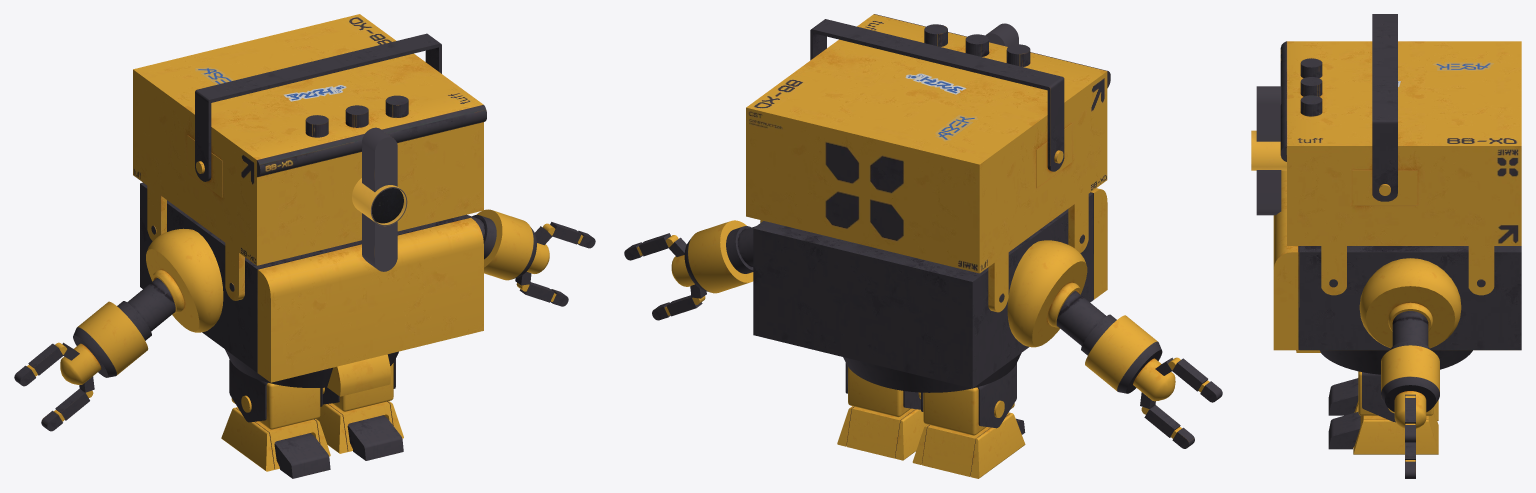
3 views of the same model, side by side, from view 1: azimuth 30°, elevation 25°; view 2: azimuth 150°, elevation 25°; view 3: azimuth 270°, elevation 25° (orthographic). The views are drawn at different scales.
Parts seen in each view (by area): view 1: Cube.001_Cube.001, Cube.001_Cube.002, Circle.002, Circle_Circle.002, Circle_Circle.001, Cube_Cube.002; view 2: Cube.001_Cube.001, Cube.001_Cube.002, Circle.002, Circle_Circle.002, Cube_Cube.002; view 3: Cube.001_Cube.001, Circle_Circle.002, Cube.001_Cube.002, Circle.002, Circle_Circle.001, Cube_Cube.002, sticker2.
Part boxes in pixels (box(x1,y1,x2,y2)): Cube.001_Cube.001: box(133, 14, 486, 382); Cube.001_Cube.002: box(221, 359, 403, 478); Circle.002: box(14, 209, 595, 431); Circle_Circle.002: box(117, 215, 496, 340); Circle_Circle.001: box(352, 127, 407, 271); Cube_Cube.002: box(225, 349, 398, 396); Cube.001_Cube.001: box(746, 14, 1110, 388); Cube.001_Cube.002: box(837, 363, 1025, 478); Circle.002: box(624, 220, 1222, 448); Circle_Circle.002: box(726, 220, 1116, 355); Cube_Cube.002: box(843, 353, 1021, 392); Cube.001_Cube.001: box(1273, 14, 1521, 350); Circle_Circle.002: box(1359, 258, 1461, 349); Cube.001_Cube.002: box(1328, 371, 1438, 454); Circle.002: box(1381, 345, 1439, 478); Circle_Circle.001: box(1251, 86, 1286, 215); Cube_Cube.002: box(1296, 350, 1472, 374); sticker2: box(1433, 62, 1493, 70).
Bounding box in the file's own units: 5.07 × 3.17 × 2.18.
8 materials, 8 textured.
